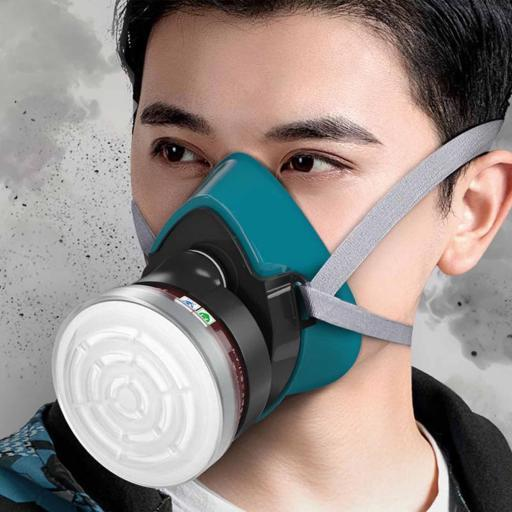mask: (38, 149, 350, 496)
